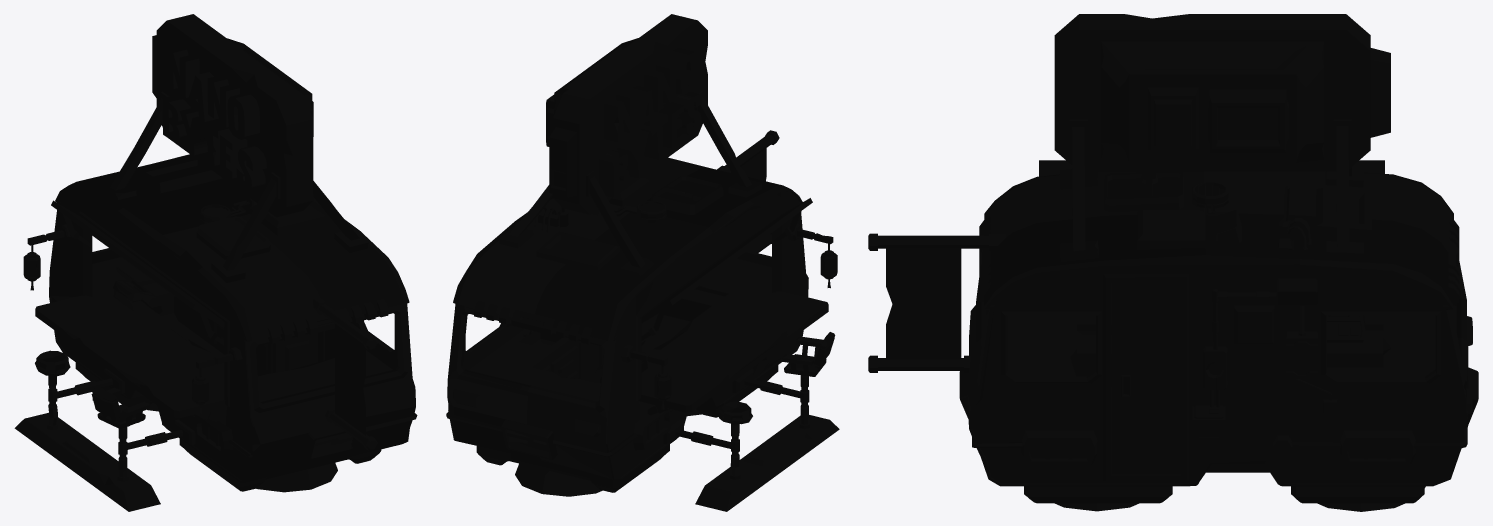
The model's file is cyber_SM_Veh_Food_Trailer_01.gltf.
3 views of the same model, side by side, from view 1: azimuth 30°, elevation 25°; view 2: azimuth 150°, elevation 25°; view 3: azimuth 270°, elevation 25° (orthographic). The views are drawn at different scales.
Visible parts, largest first — view 1: SM_Veh_Food_Trailer_01; view 2: SM_Veh_Food_Trailer_01; view 3: SM_Veh_Food_Trailer_01.
Part boxes in pixels (x1,y1,x2,y2): SM_Veh_Food_Trailer_01: [14, 14, 417, 511]; SM_Veh_Food_Trailer_01: [446, 14, 839, 511]; SM_Veh_Food_Trailer_01: [868, 14, 1478, 511].
Size of the model in its own units: 3.91 by 5.36 by 6.43.
1 material, 1 textured.
